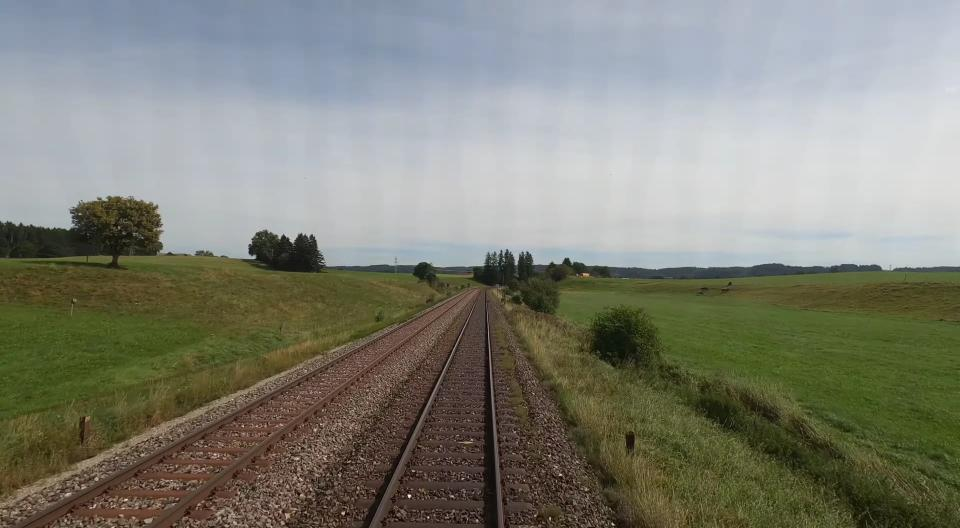Plant: (492, 321, 527, 430), (539, 505, 562, 523)
